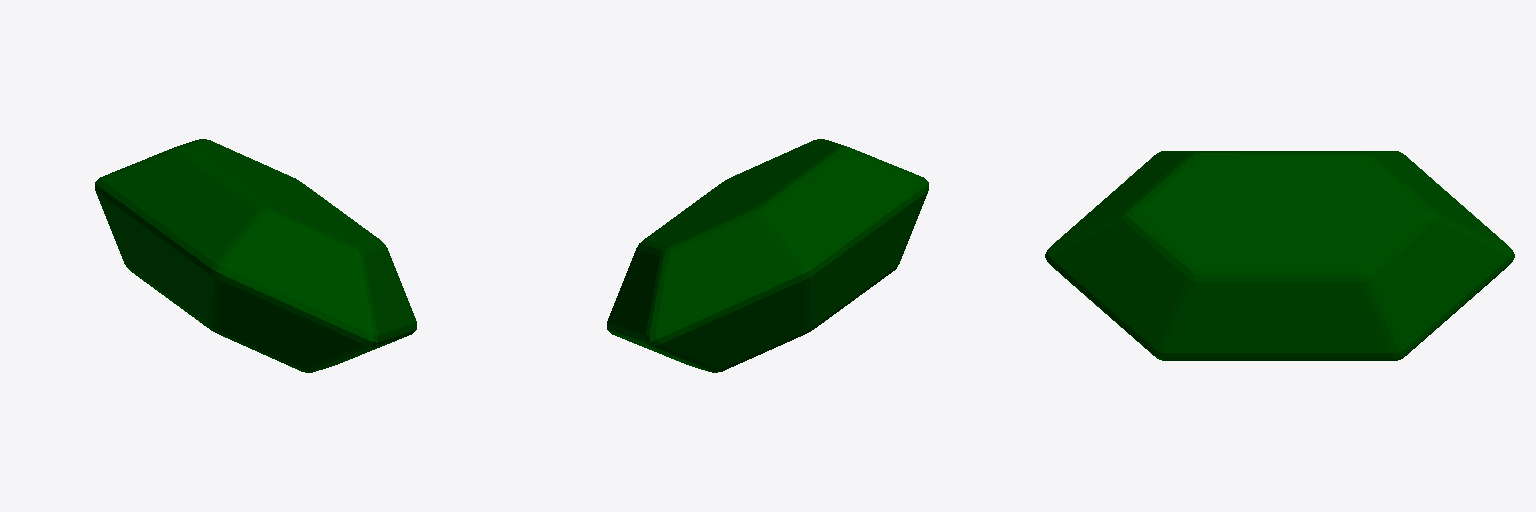
The model's file is Rupia.001.obj.
3 views of the same model, side by side, from view 1: azimuth 30°, elevation 25°; view 2: azimuth 150°, elevation 25°; view 3: azimuth 270°, elevation 25° (orthographic).
Visible parts, largest first — view 1: Rupia.001; view 2: Rupia.001; view 3: Rupia.001.
Part boxes in pixels (bbox=[...]): Rupia.001: bbox=[95, 139, 416, 372]; Rupia.001: bbox=[607, 139, 928, 372]; Rupia.001: bbox=[1045, 151, 1514, 360].
Size of the model in its own units: 0.2216 by 0.1783 by 0.4414.